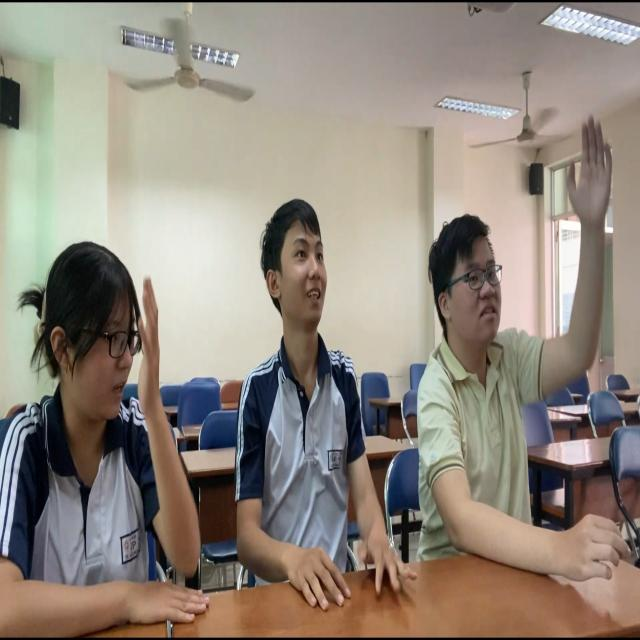raise_hand: (424, 104, 619, 582), (2, 241, 206, 640)
